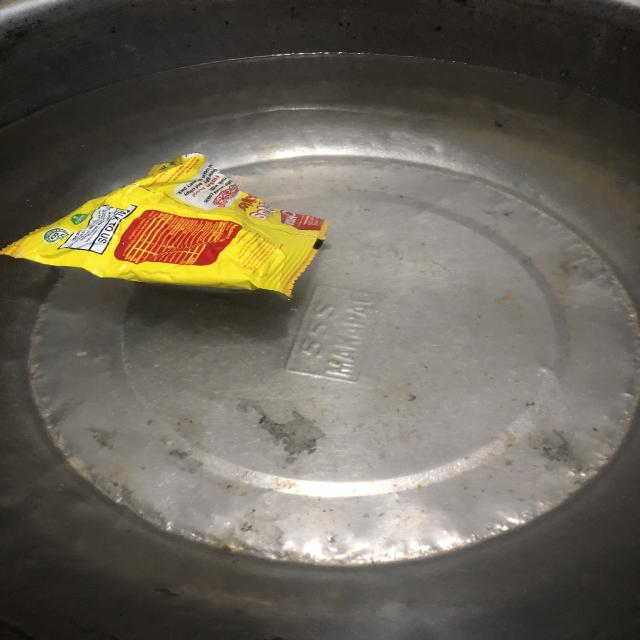Plastic Wrapper: (0, 153, 330, 297)
